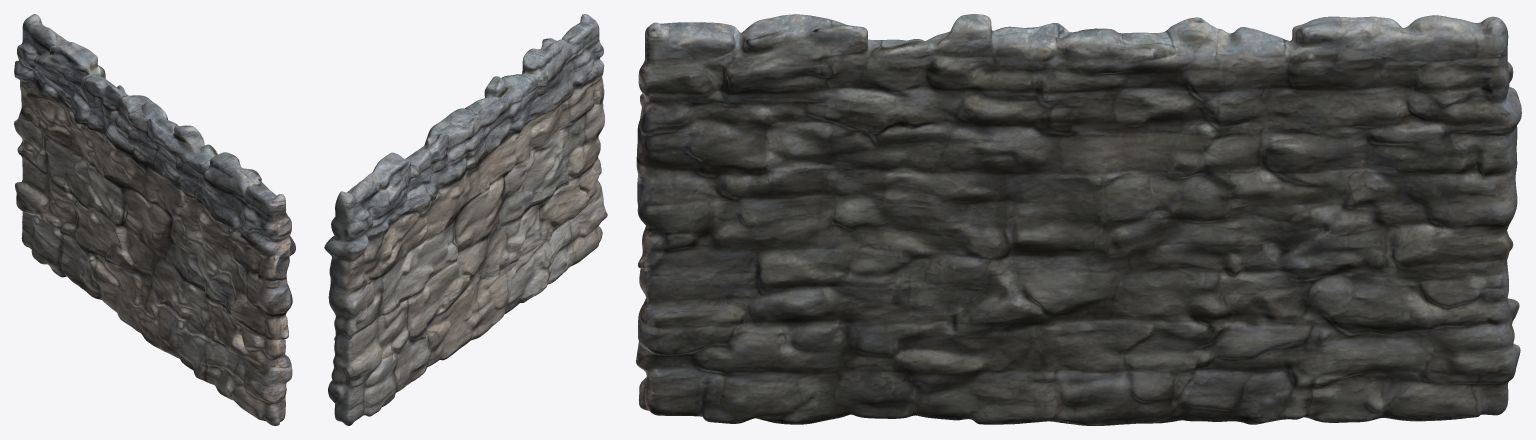
Rendered from Meshy_AI_Rock_wall_0220190108_texture.glb.
The picture shows the model from 3 angles, left to right: view 1: azimuth 30°, elevation 25°; view 2: azimuth 150°, elevation 25°; view 3: azimuth 270°, elevation 25°; orthographic projection. The views are drawn at different scales.
Bounding box in the file's own units: 0.1907 × 1.01 × 2.
1 material, 1 textured.
